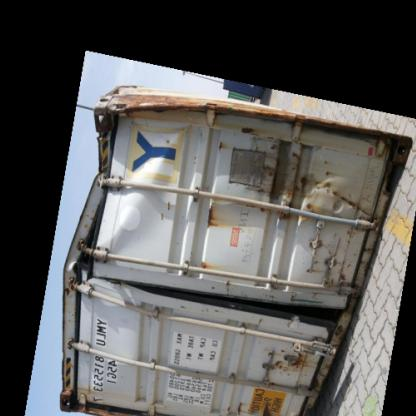Damage: (88, 256, 344, 337), (87, 95, 204, 172), (218, 127, 294, 206), (298, 157, 370, 235), (57, 187, 89, 297), (264, 341, 315, 380)
